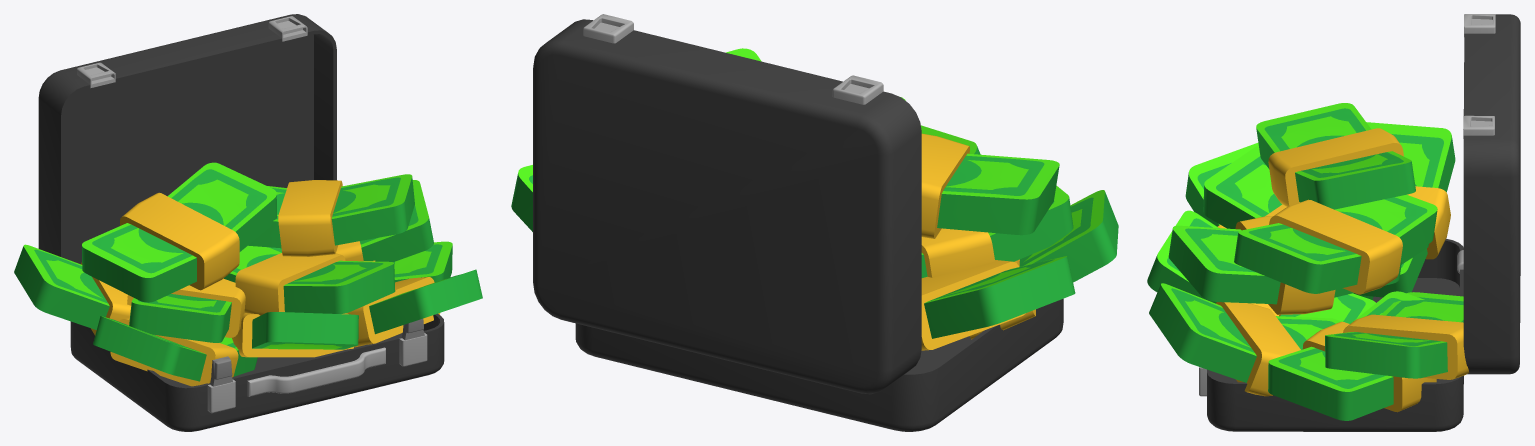
The model's file is paraCanta (2).fbx.
3 renders of one model, left to right at view 1: azimuth 30°, elevation 25°; view 2: azimuth 150°, elevation 25°; view 3: azimuth 270°, elevation 25°, orthographic. The views are drawn at different scales.
Parts seen in each view (by area): view 1: ustkapak, altkapak, para.002, para.005, para.009, para.003, para.001, para.008, para.004, para.006, para.010, para.007; view 2: ustkapak, altkapak, para.002, para.001, para.008, para.003, para.010; view 3: ustkapak, para.005, para.002, altkapak, para.006, para.010, para.007, para.009, para.001, para.008, para.004, para.003.
Boxes of the visible parts, x1,y1,x2,y2 form: ustkapak: (38, 14, 336, 264); altkapak: (70, 313, 444, 431); para.002: (82, 162, 276, 302); para.005: (248, 174, 414, 256); para.009: (224, 245, 395, 315); para.003: (93, 316, 257, 386); para.001: (14, 244, 131, 335); para.008: (127, 278, 245, 342); para.004: (232, 312, 358, 357); para.006: (347, 269, 482, 347); para.010: (336, 180, 433, 262); para.007: (364, 241, 452, 282); ustkapak: (533, 14, 921, 394); altkapak: (575, 298, 1063, 431); para.002: (921, 133, 1059, 238); para.001: (921, 256, 1075, 350); para.008: (921, 185, 1073, 277); para.003: (969, 190, 1118, 339); para.010: (511, 165, 532, 231); ustkapak: (1457, 14, 1520, 374); para.005: (1234, 194, 1437, 294); para.002: (1256, 103, 1415, 209); altkapak: (1199, 238, 1463, 431); para.006: (1149, 283, 1340, 396); para.010: (1325, 292, 1469, 379); para.007: (1268, 291, 1436, 420); para.009: (1168, 216, 1401, 314); para.001: (1354, 122, 1455, 297); para.008: (1203, 145, 1428, 264); para.004: (1147, 210, 1375, 323); para.003: (1185, 143, 1373, 300).
Size of the model in its own units: 229 by 143 by 167.
